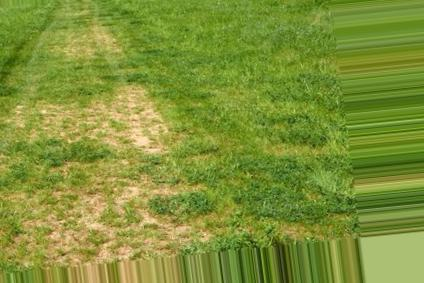patch: (99, 85, 157, 127), (76, 187, 145, 220), (65, 20, 135, 50), (35, 103, 86, 137), (107, 139, 176, 164), (64, 234, 124, 255), (153, 172, 198, 195), (29, 203, 61, 226), (146, 226, 189, 242), (196, 222, 219, 237), (272, 228, 302, 234)
